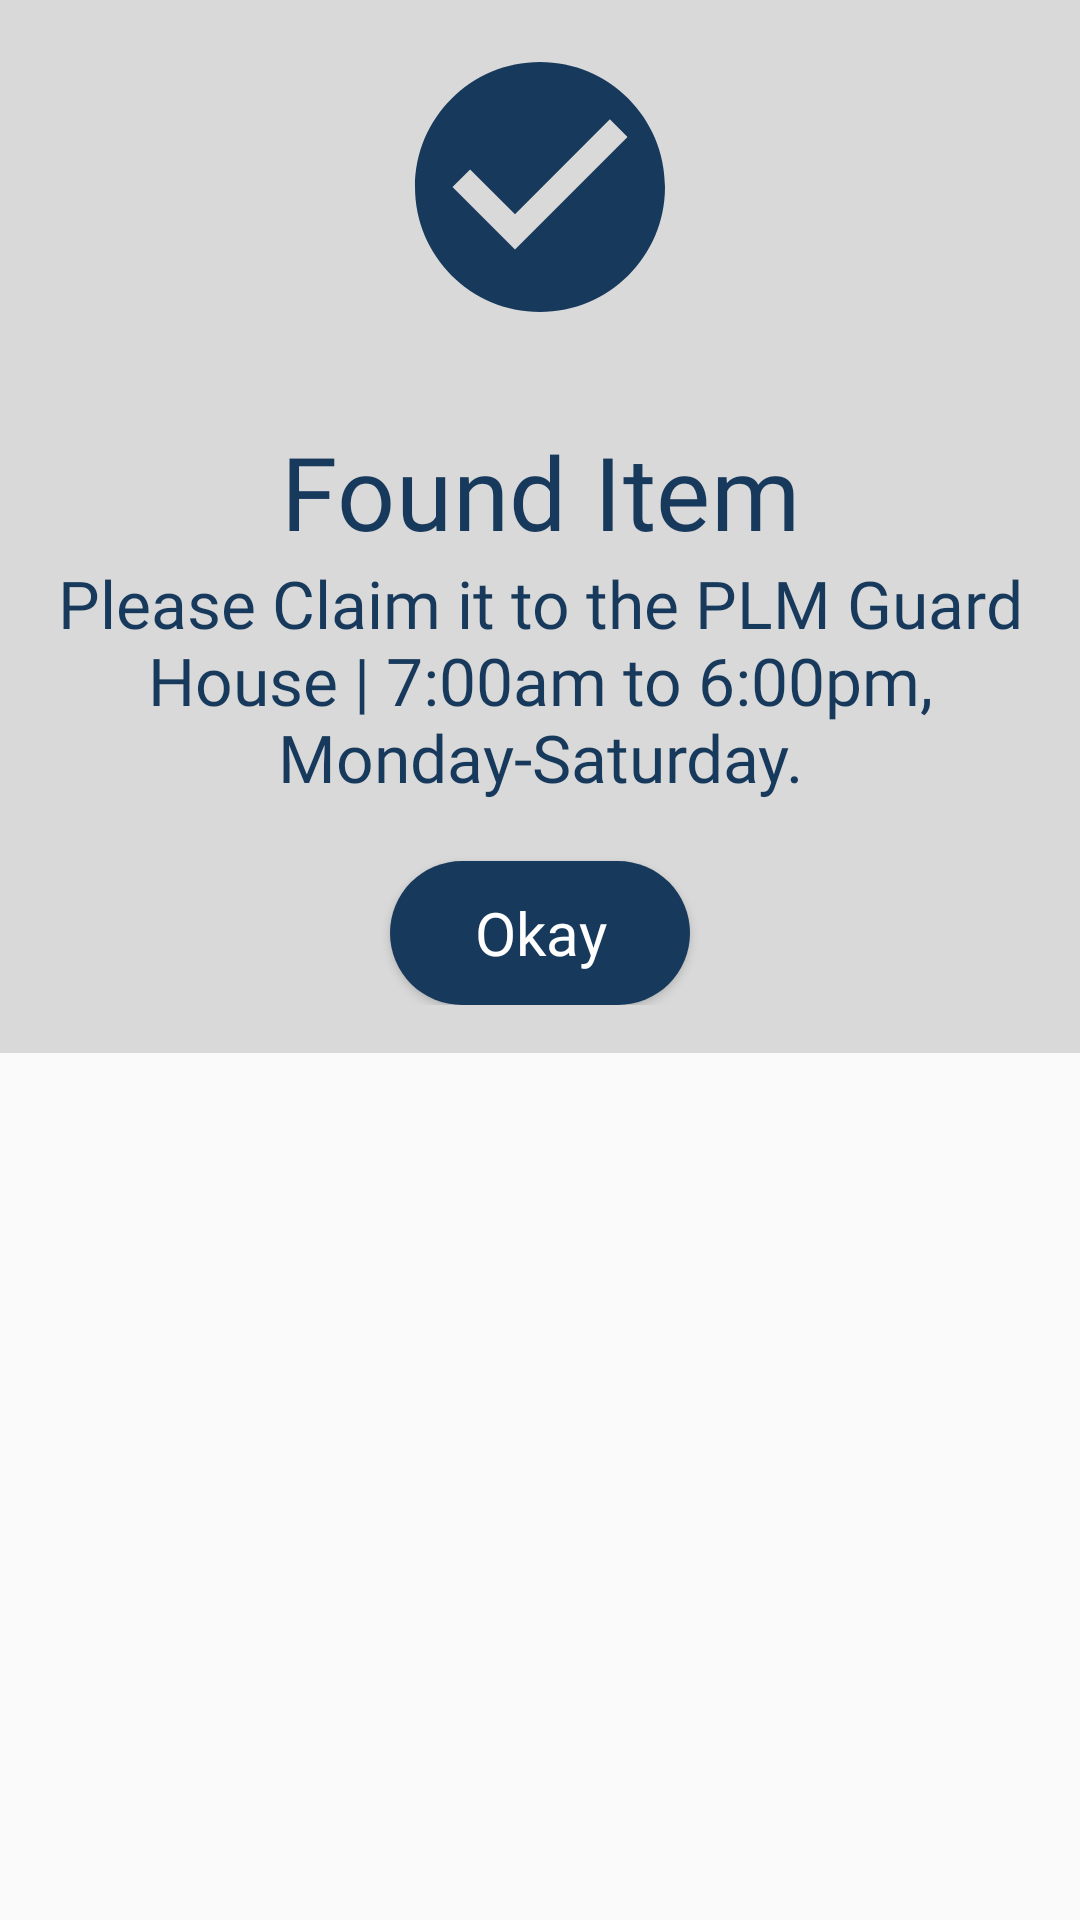

Icon bounding boxes for this 1080 x 1920 phone screenshot, format [x1, y1, x2, y2]:
check circle: [415, 62, 665, 312]
